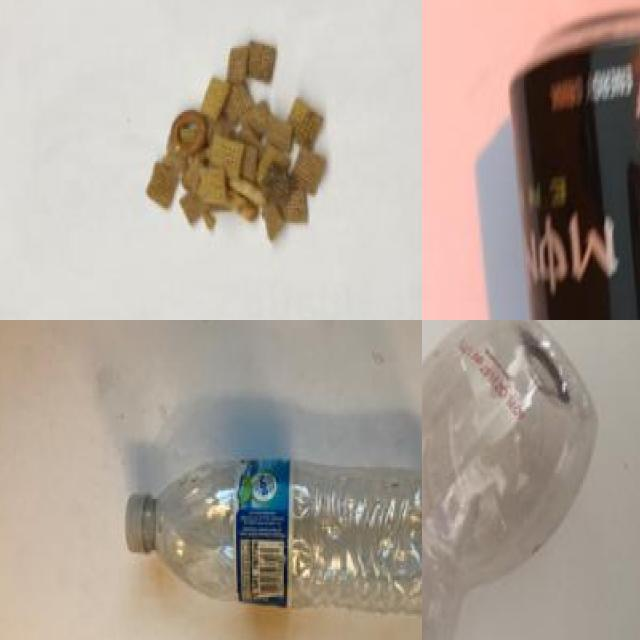compost: (136, 10, 360, 262)
plastic: (124, 439, 422, 637), (422, 320, 599, 640), (509, 3, 640, 320)
